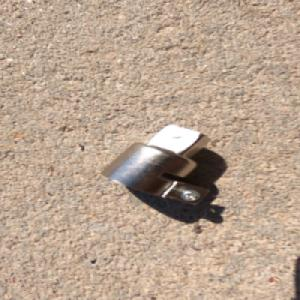MetalPart: (97, 123, 210, 206)
